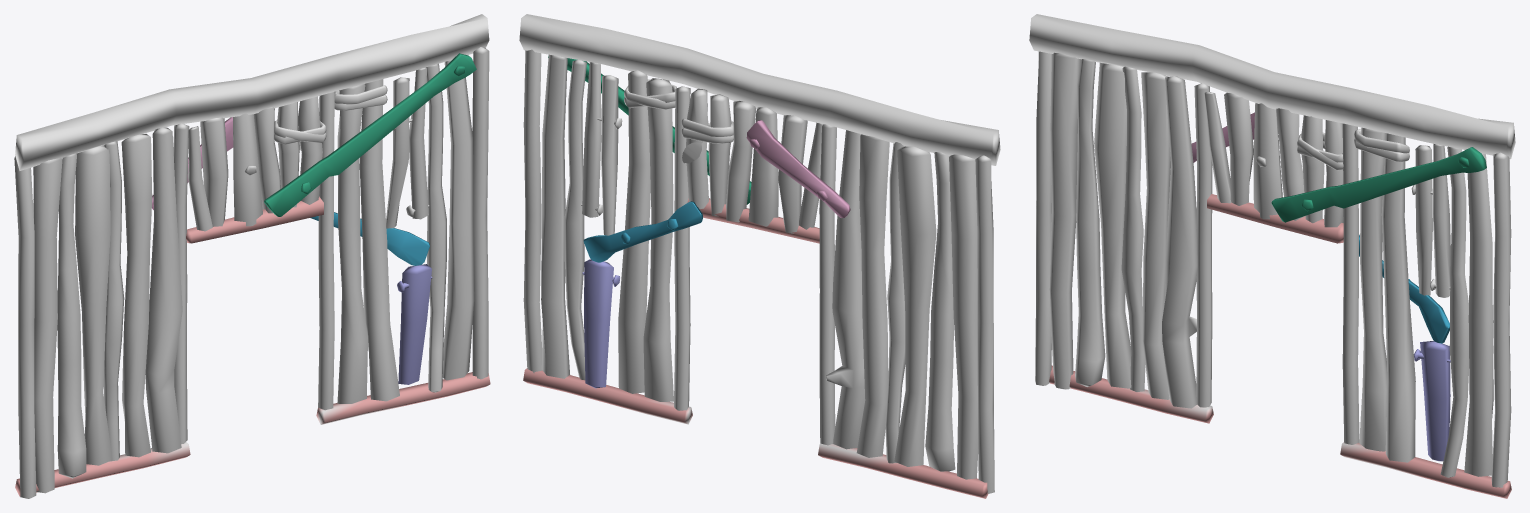
Rendered from PBW_W1_DoorC.glb.
3 views of the same model, side by side, from view 1: azimuth 30°, elevation 25°; view 2: azimuth 150°, elevation 25°; view 3: azimuth 330°, elevation 25° (orthographic).
Visible parts, largest first — view 1: PBW_W1_DoorC; view 2: PBW_W1_DoorC; view 3: PBW_W1_DoorC.
Part boxes in pixels (x1,y1,x2,y2): PBW_W1_DoorC: (14,14,490,498); PBW_W1_DoorC: (519,14,1000,498); PBW_W1_DoorC: (1029,14,1515,498).
Bounding box in the file's own units: 5.12 × 3.88 × 0.4639.
